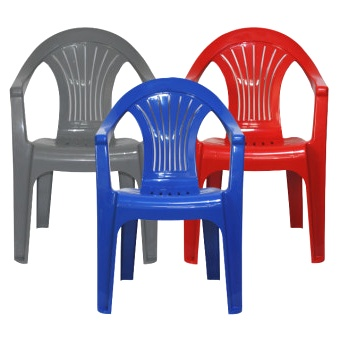plastic: (124, 98, 233, 214)
